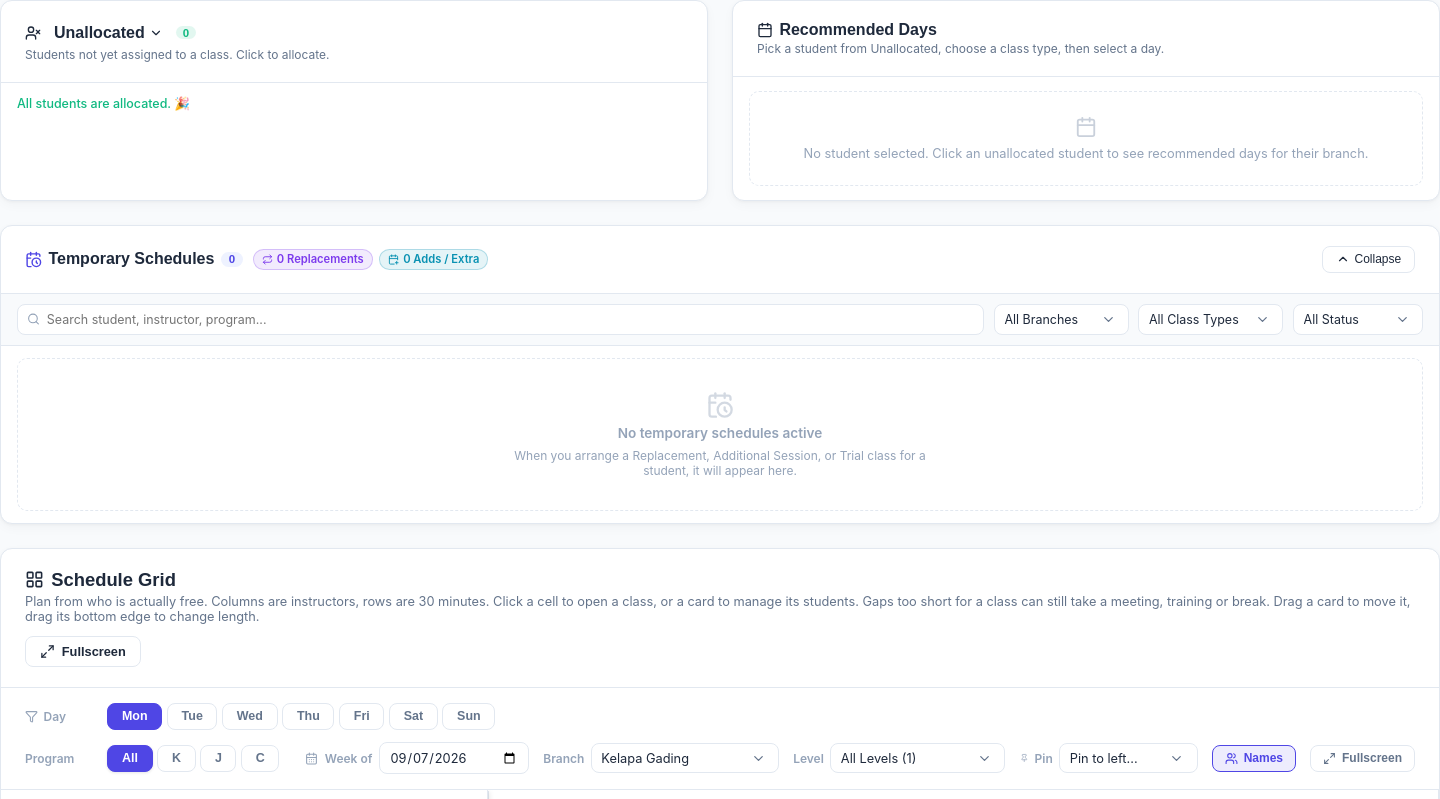
it: NewSchedulePage - Program and Term Locking › automatically inherits program, term, and lesson for students with existing regular schedule
Switch scope to "all" so Jonathan (who is already allocated) appears
Click the button with aria-label "Which students to list" at (108, 33), box 47,21 -> 169,44
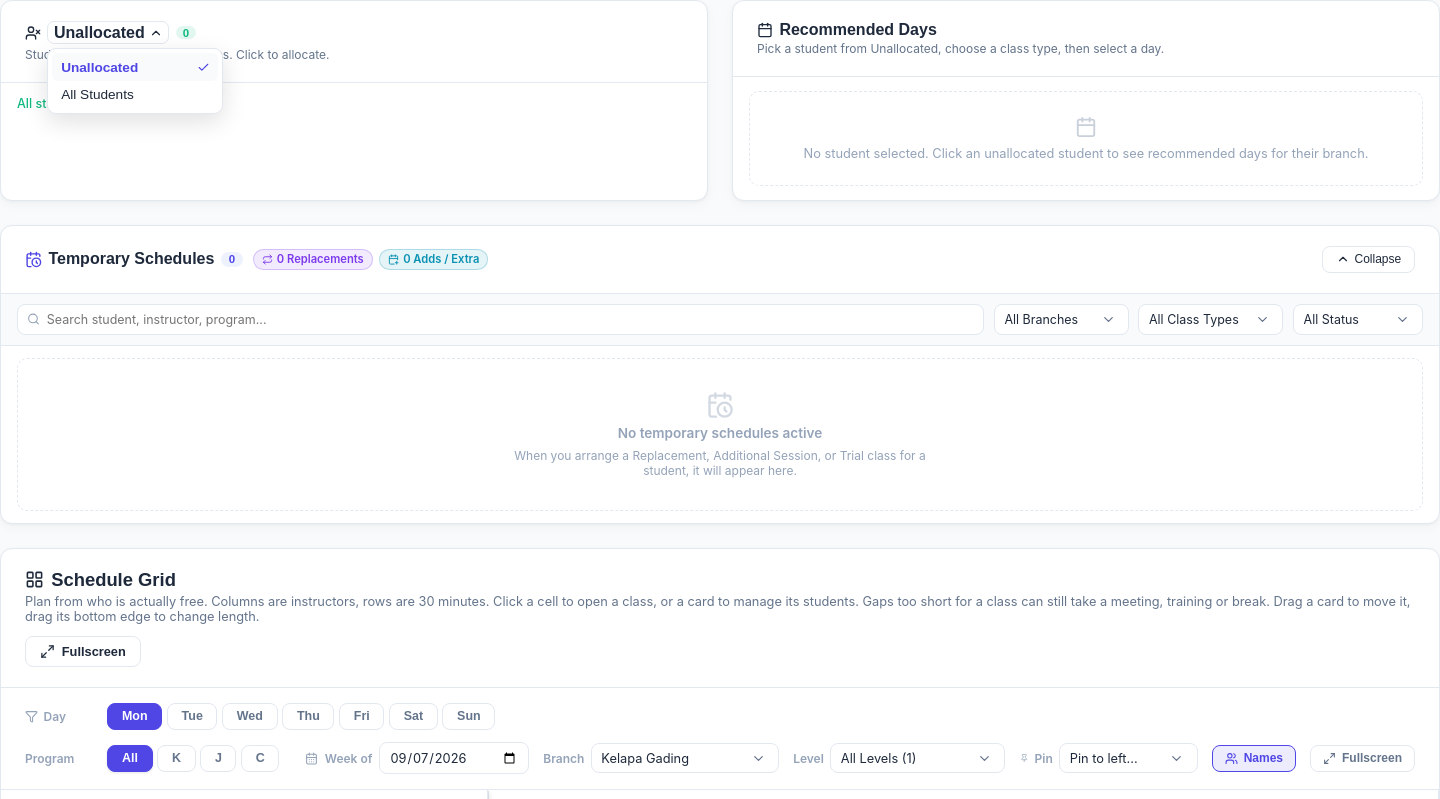
Click the option "All Students" at (97, 95), box 61,87 -> 134,102
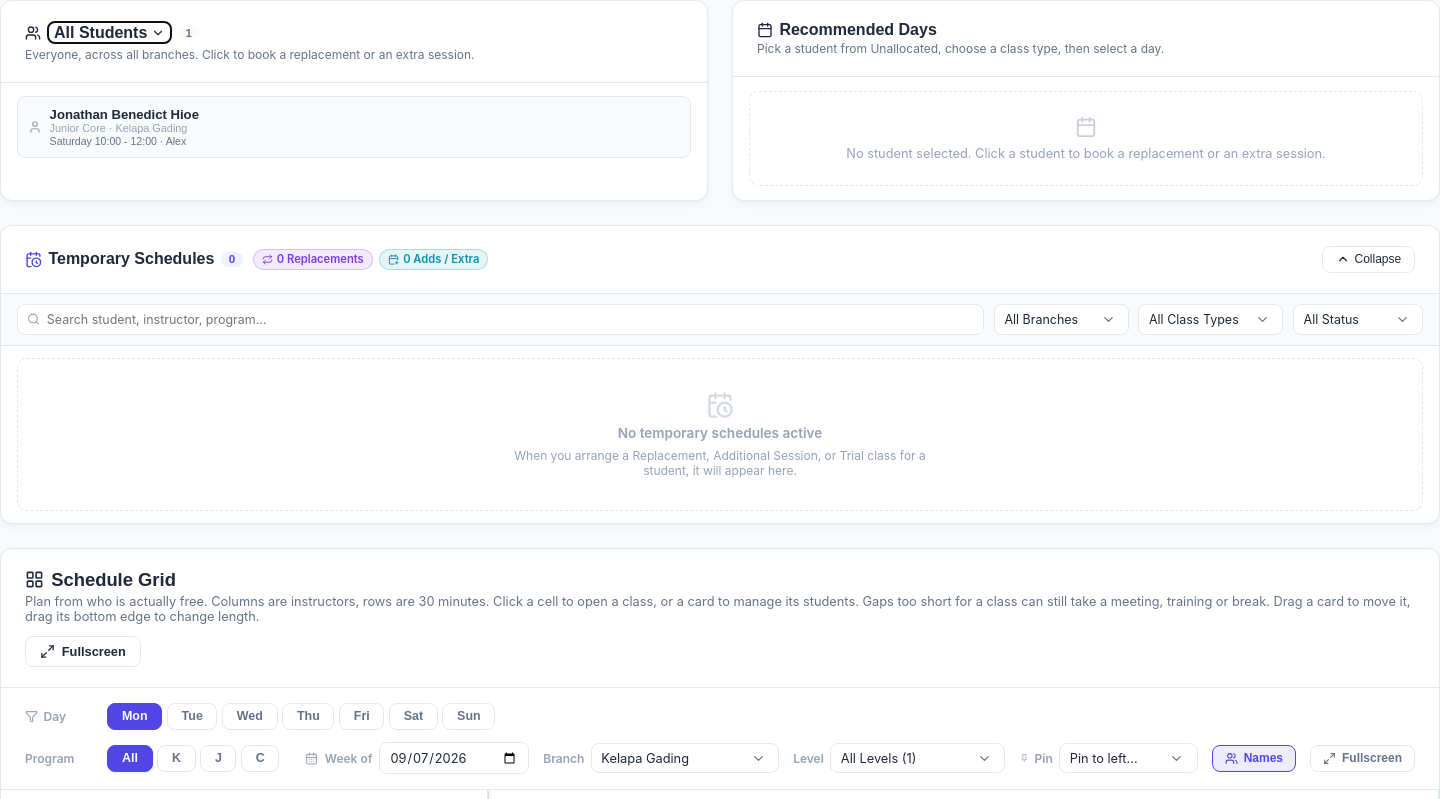
Click the text "Jonathan Benedict Hioe" at (124, 114), box 50,107 -> 199,122
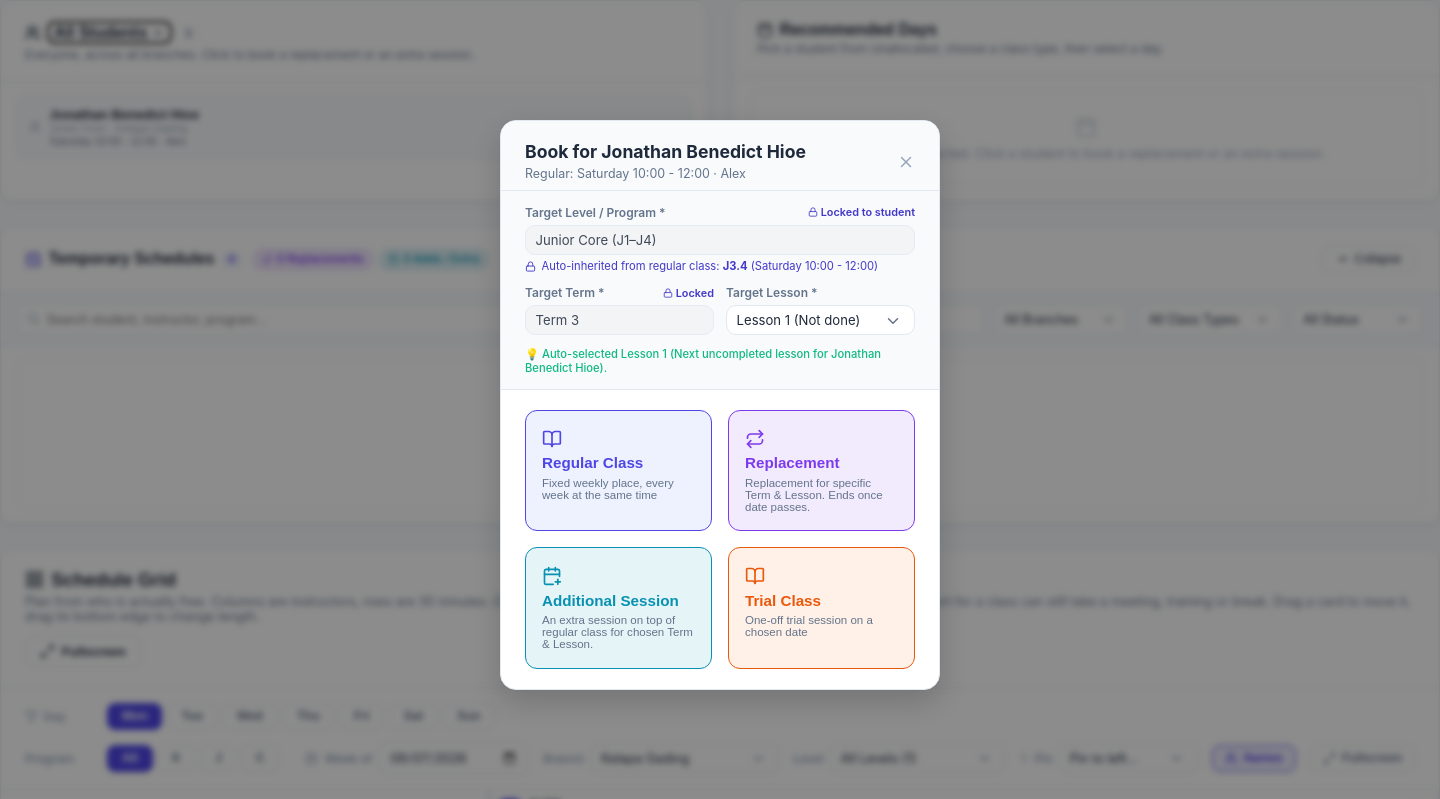
Click the button "Replacement" at (822, 471), box 728,410 -> 915,531
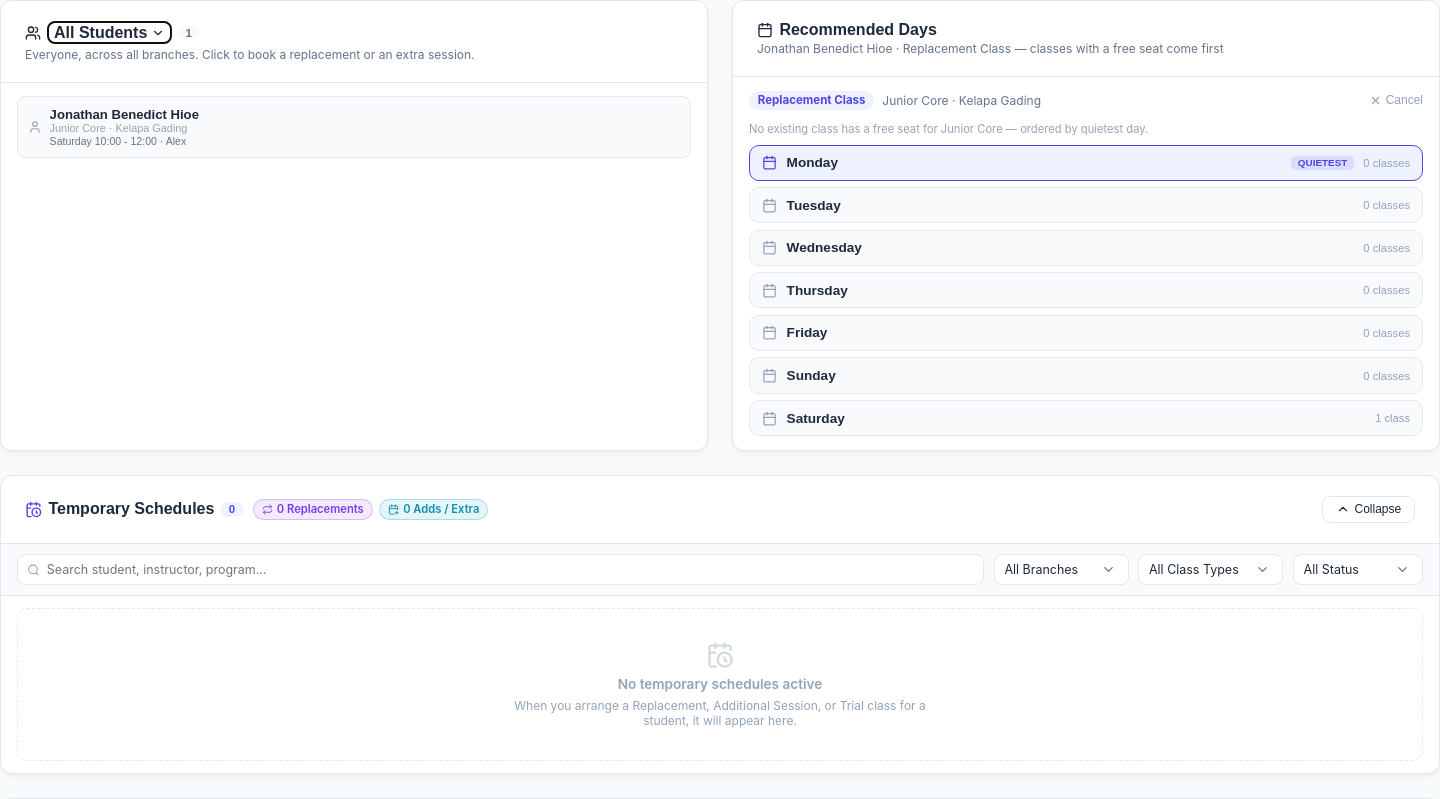
Click the text "Monday" at (812, 163), box 787,155 -> 838,170
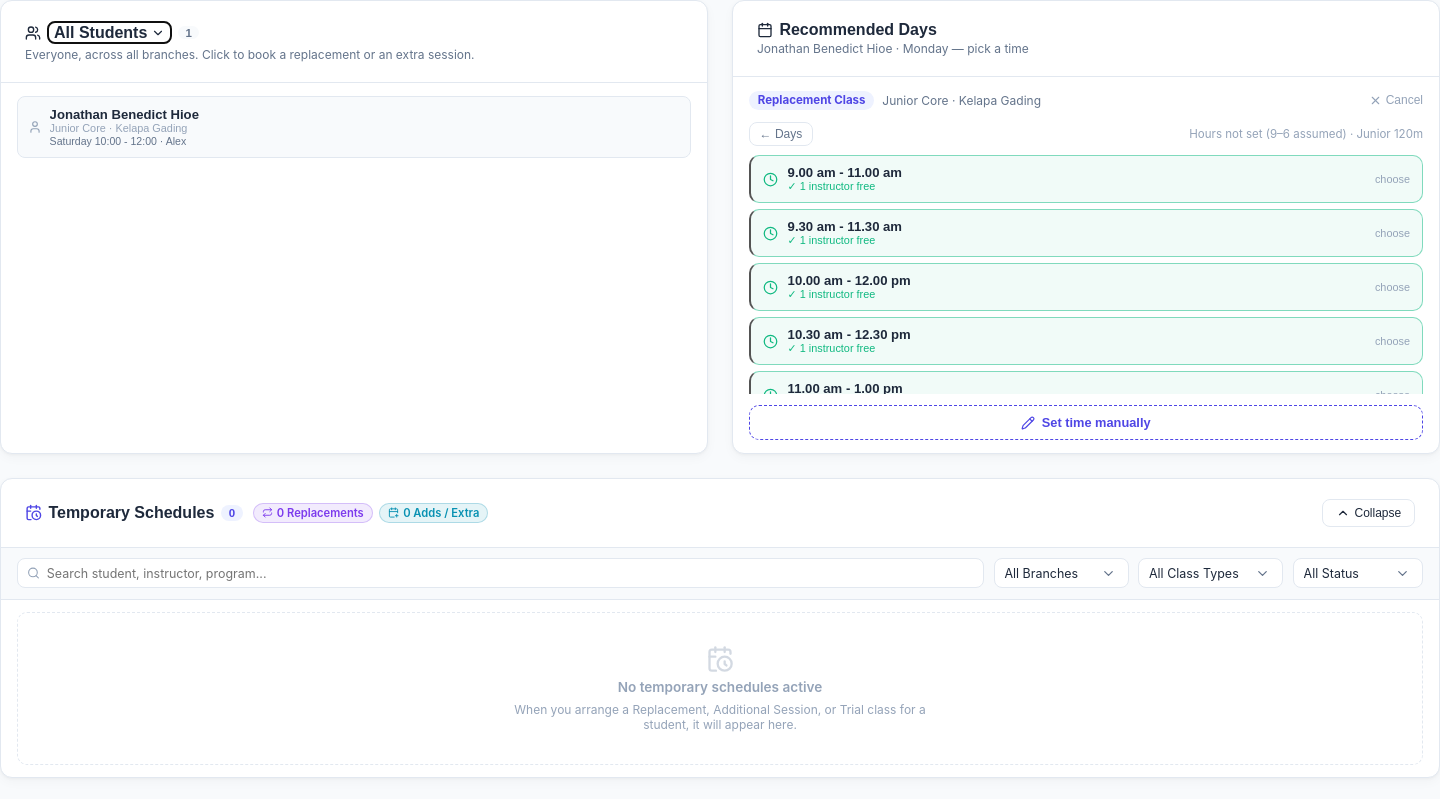
Click the button "Set time manually" at (1086, 422), box 749,405 -> 1423,440
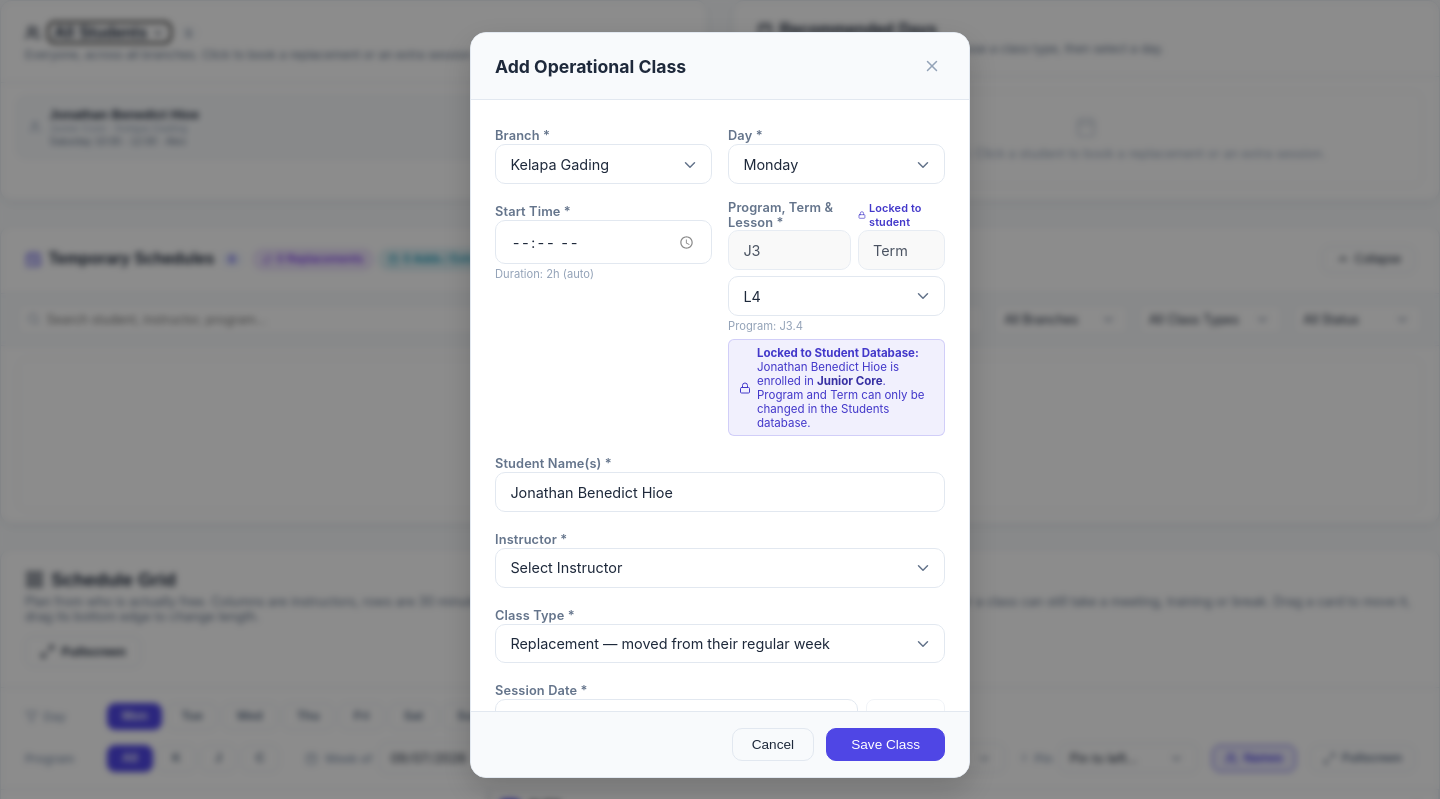
Expected: the dropdown titled "Program is locked to student's enrolled level in database" is disabled, 728,230 -> 851,270
Expected: the dropdown titled "Program is locked to student's enrolled level in database" shows "J3", 728,230 -> 851,270
Expected: the dropdown titled "Term is locked to student's enrolled level in database" is disabled, 858,230 -> 945,270
